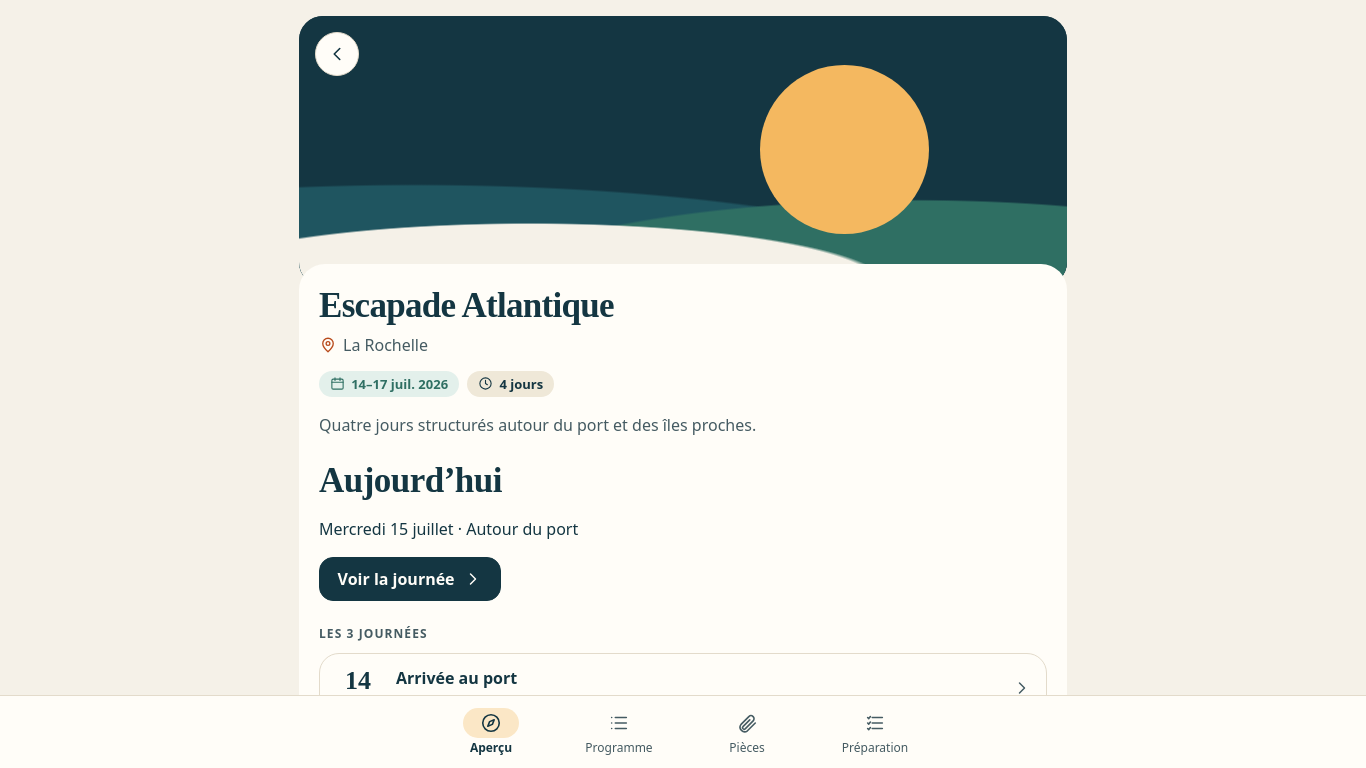
Test: préparation et états personnels › organise les checklists selon leur cible sans les mélanger à la synthèse
The width and height of the screenshot is (1366, 768).
Check: the text "Avant le départ" is not shown
Step 1. Click the button "Préparation" → (875, 732), box [811,704,939,760]
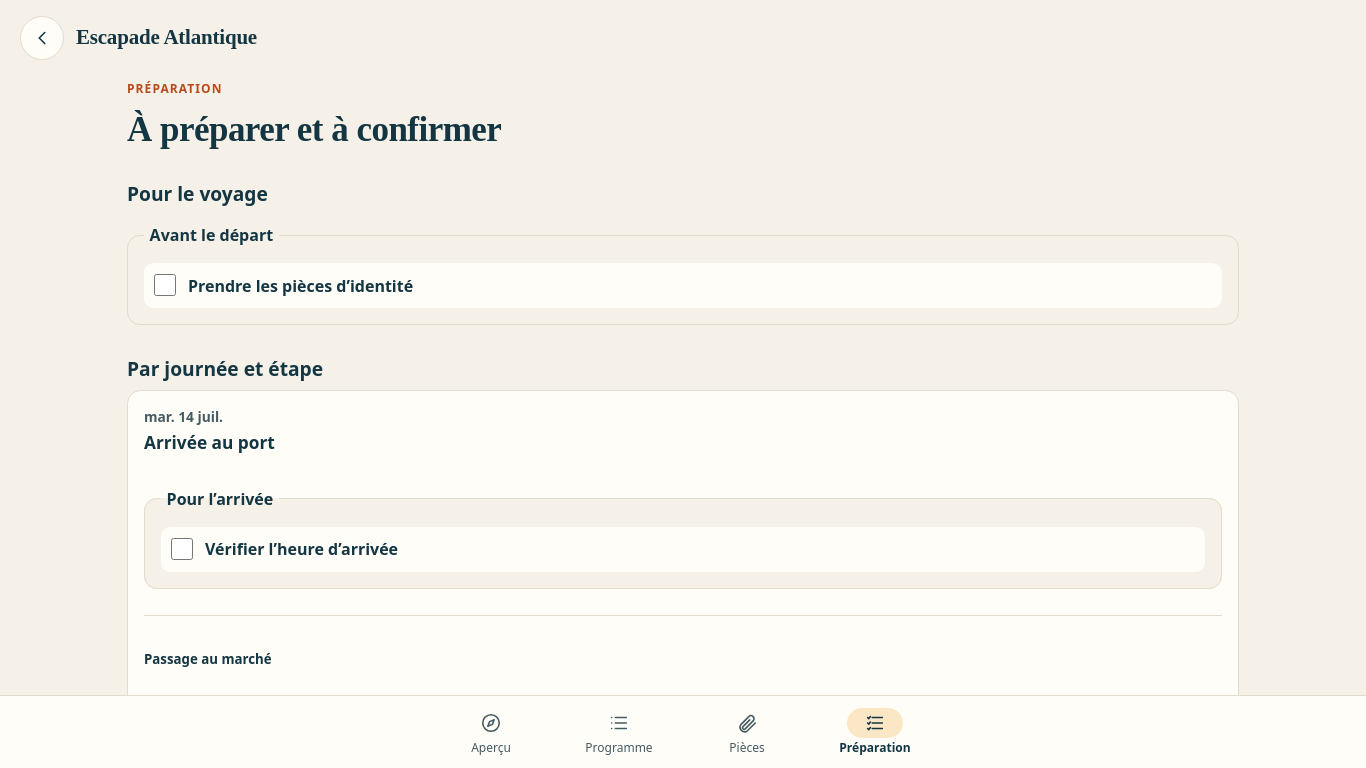
Check: the heading "Pour le voyage" is shown, box [127,180,268,207]
Check: the text "Avant le départ" is shown, box [144,223,279,247]
Check: the text "Pour l’arrivée" is shown, box [161,487,279,511]
